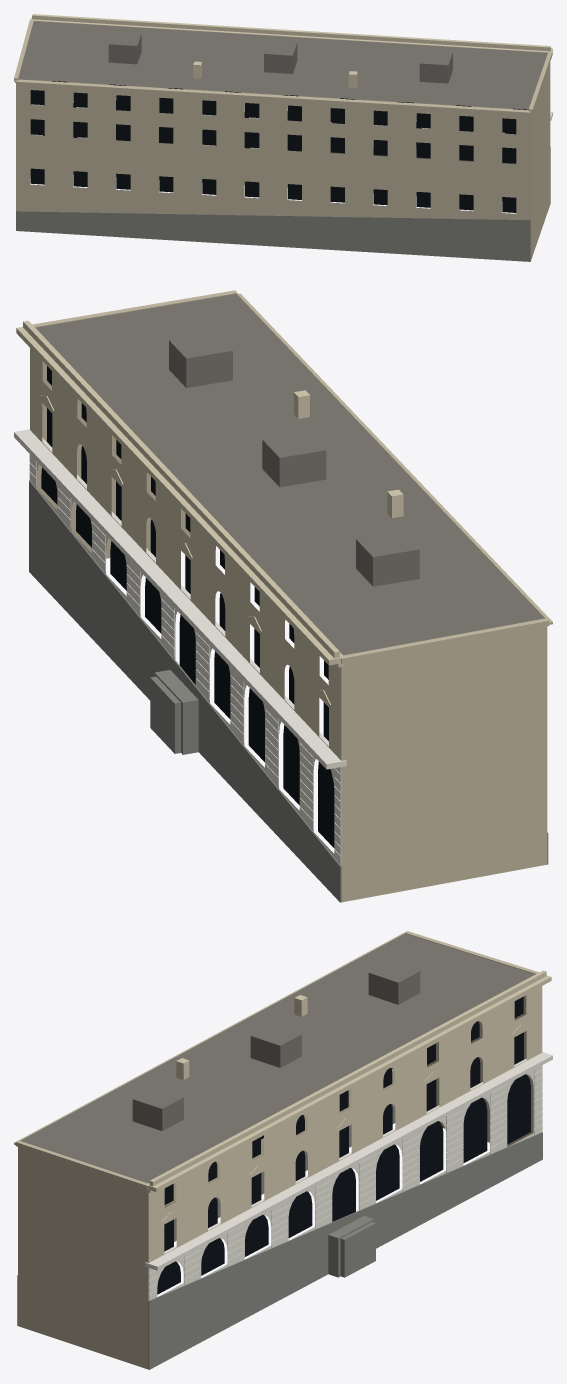
File: bmorskaya2.lod.glb
The picture shows the model from 3 angles, top to bottom: view 1: azimuth 30°, elevation 25°; view 2: azimuth 150°, elevation 25°; view 3: azimuth 270°, elevation 25°; orthographic projection. The views are drawn at different scales.
Parts seen in each view (by area): view 1: bmorskaya2_wall3, bmorskaya2_roof, bmorskaya2_stone, bmorskaya2_glass, bmorskaya2_wall, bmorskaya2_wall2; view 2: bmorskaya2_roof, bmorskaya2_wall3, bmorskaya2_wall, bmorskaya2_stone, bmorskaya2_wall2, bmorskaya2_glass; view 3: bmorskaya2_roof, bmorskaya2_wall, bmorskaya2_wall3, bmorskaya2_stone, bmorskaya2_wall2, bmorskaya2_glass.
Boxes of the visible parts, <box> form: bmorskaya2_wall3: <box>14,19,552,260</box>; bmorskaya2_roof: <box>18,21,547,109</box>; bmorskaya2_stone: <box>16,147,550,261</box>; bmorskaya2_glass: <box>30,81,528,212</box>; bmorskaya2_wall: <box>30,14,552,109</box>; bmorskaya2_wall2: <box>32,92,552,148</box>; bmorskaya2_roof: <box>35,294,544,655</box>; bmorskaya2_wall3: <box>32,290,552,902</box>; bmorskaya2_wall: <box>16,320,403,760</box>; bmorskaya2_stone: <box>29,480,548,902</box>; bmorskaya2_wall2: <box>14,429,346,865</box>; bmorskaya2_glass: <box>41,366,334,847</box>; bmorskaya2_roof: <box>20,933,535,1183</box>; bmorskaya2_wall: <box>146,970,551,1262</box>; bmorskaya2_wall3: <box>14,931,538,1369</box>; bmorskaya2_stone: <box>17,1103,542,1369</box>; bmorskaya2_wall2: <box>145,1052,552,1300</box>; bmorskaya2_glass: <box>157,996,530,1294</box>.
Size of the model in its own units: 48.55 by 18.1 by 42.85.
